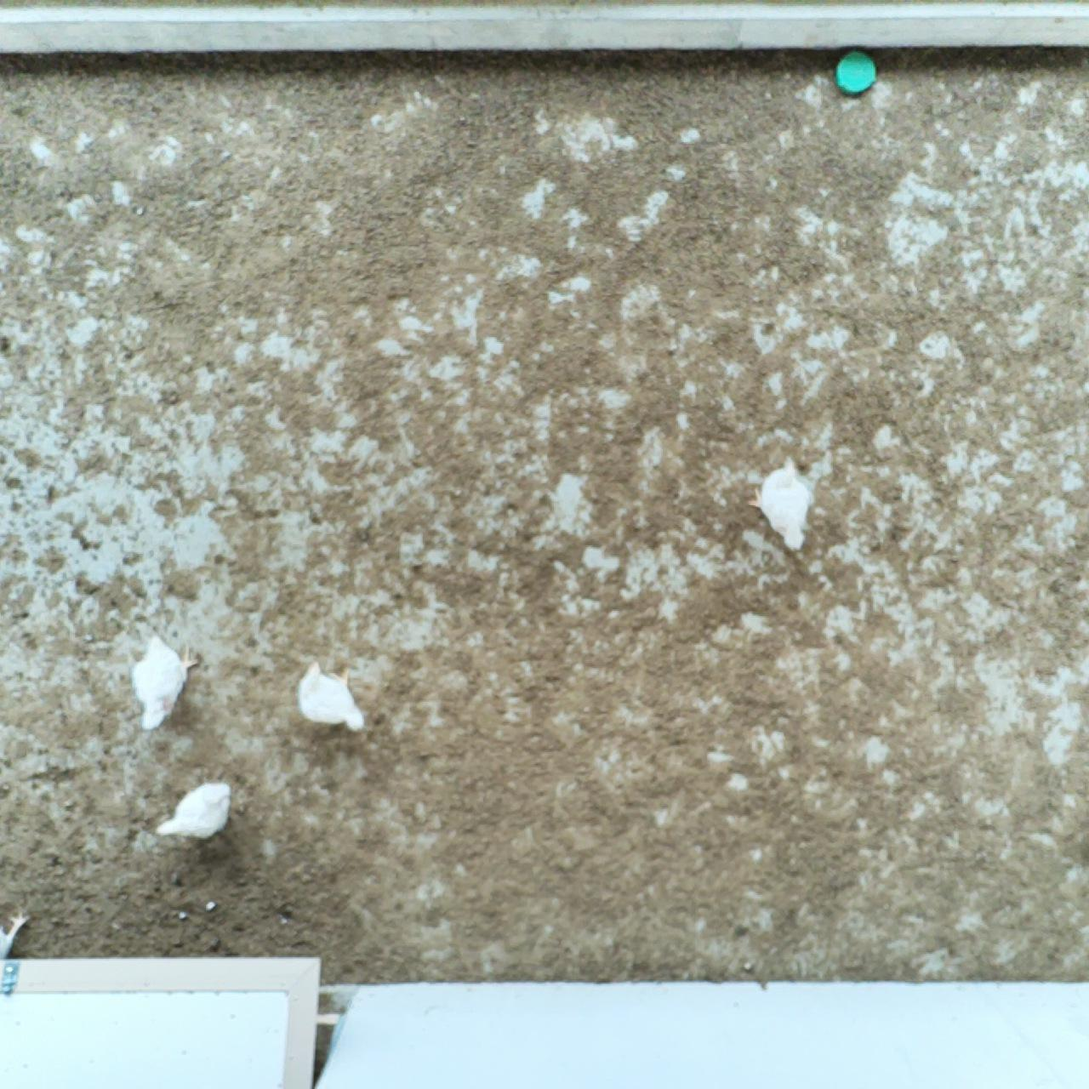chicken: (127, 631, 202, 733), (746, 454, 815, 552), (154, 775, 240, 847), (294, 656, 368, 737), (0, 906, 39, 973)
